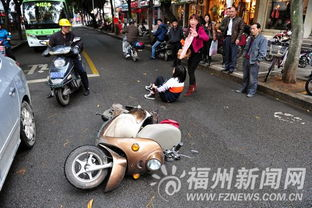10+: (1, 1, 277, 106)
down: (138, 60, 192, 106)
